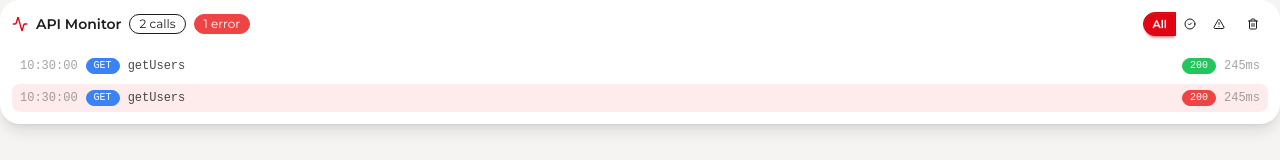
Test: ApiMonitorPanel › should filter by success when success filter clicked
This screenshot has width=1280, height=160.
Click the button with test id "filter-success".
click(1190, 24)  # box [1175, 12, 1205, 36]
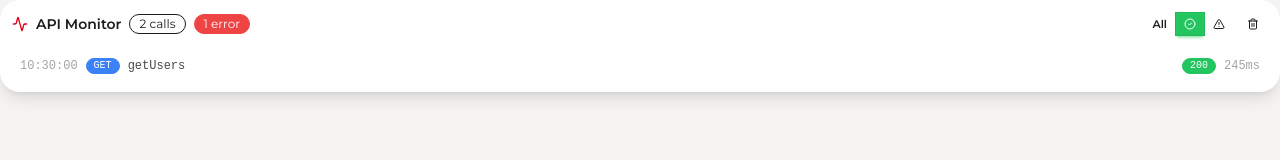
Expected: the button with test id "log-entry-call-1" is shown, [12, 52, 1268, 80]
Now the button with test id "log-entry-call-2" is gone
